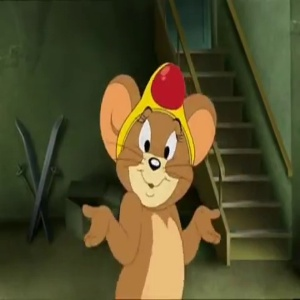Jerry: (88, 59, 218, 214)
